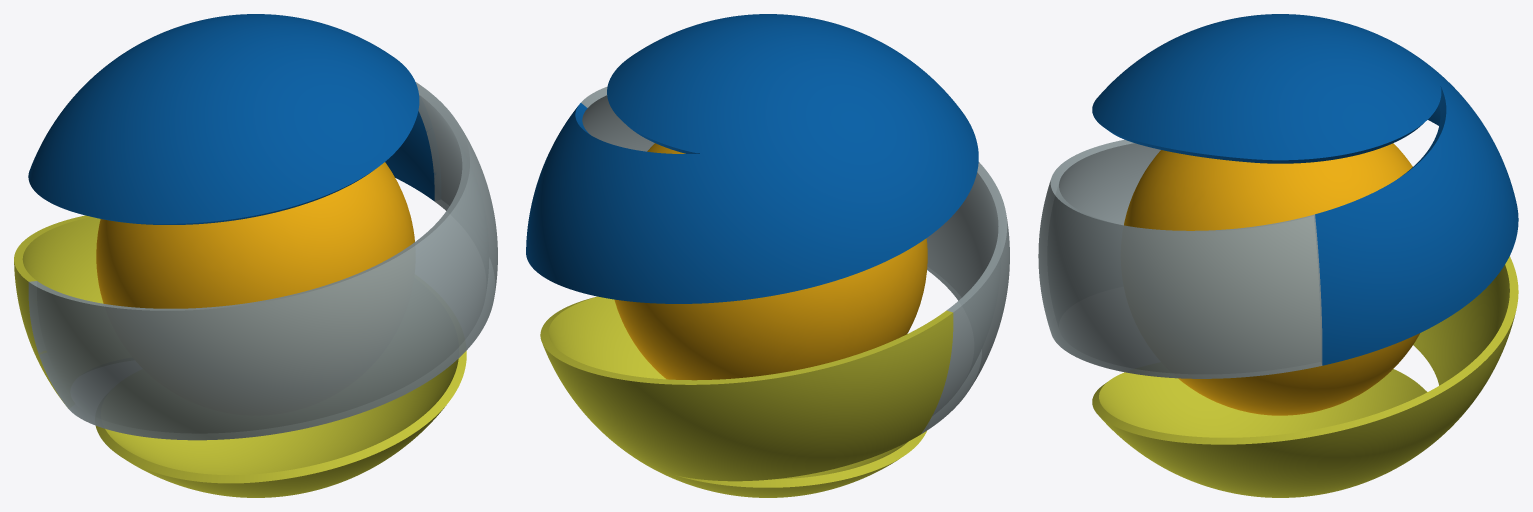
Rendered from sonnental-esfera-2026.glb.
3 renders of one model, left to right at view 1: azimuth 30°, elevation 25°; view 2: azimuth 150°, elevation 25°; view 3: azimuth 270°, elevation 25°, orthographic.
Visible parts, largest first — view 1: faixa_cinza, calota_azul, sol, calota_verde; view 2: calota_azul, calota_verde, sol, faixa_cinza; view 3: calota_azul, faixa_cinza, calota_verde, sol.
Part boxes in pixels (x1,y1,x2,y2): faixa_cinza: [28, 82, 497, 440]; calota_azul: [28, 14, 434, 224]; sol: [96, 162, 414, 308]; calota_verde: [14, 215, 466, 497]; calota_azul: [526, 14, 978, 303]; calota_verde: [540, 296, 953, 497]; sol: [614, 143, 927, 380]; faixa_cinza: [581, 86, 1009, 433]; calota_azul: [1092, 14, 1518, 365]; faixa_cinza: [1038, 139, 1322, 378]; calota_verde: [1092, 256, 1518, 497]; sol: [1124, 143, 1419, 415].
Bounding box in the file's own units: 0.22 × 0.22 × 0.2182.
